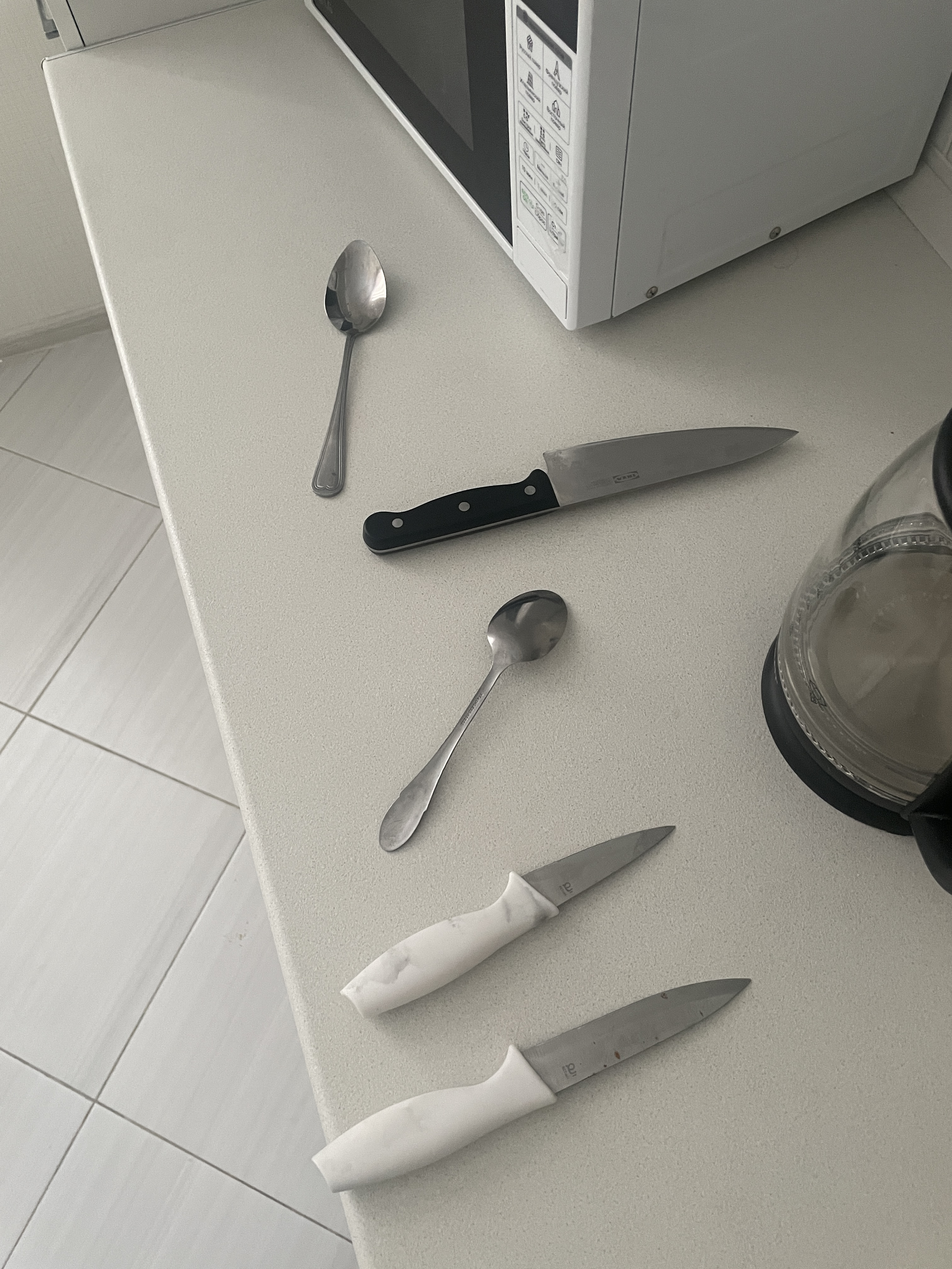knife: (314, 979, 750, 1192), (342, 826, 674, 1017), (363, 427, 796, 554)
spoon: (379, 590, 568, 851), (312, 240, 386, 497)
